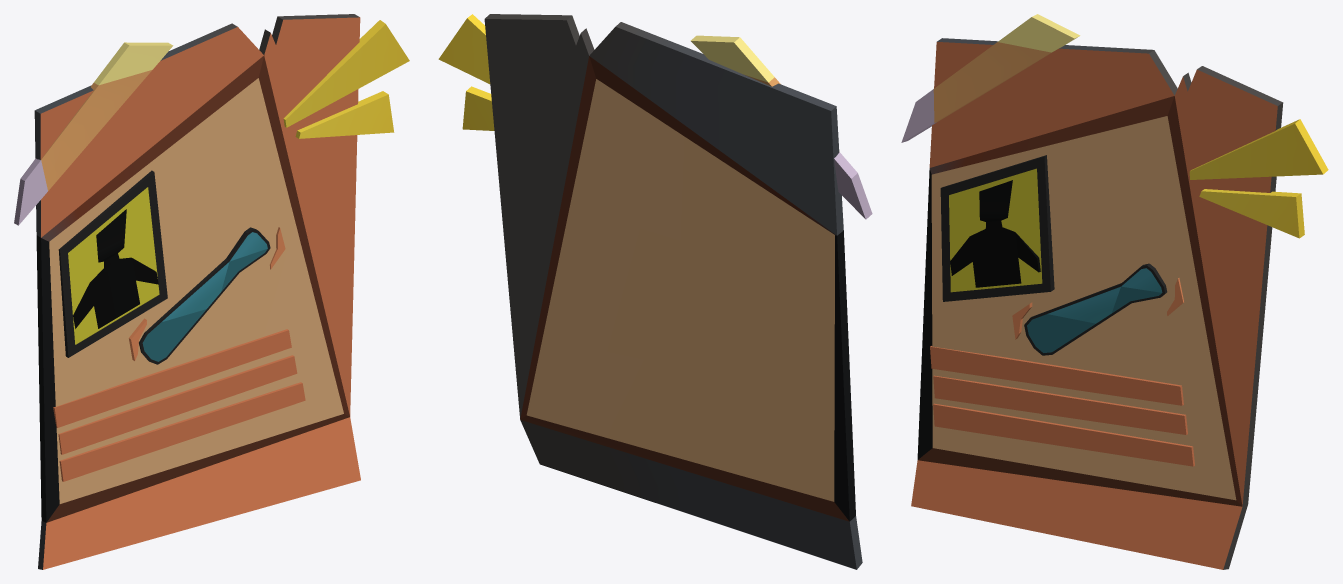
Rendered from animal_billboard001.glb.
3 renders of one model, left to right at view 1: azimuth 30°, elevation 25°; view 2: azimuth 150°, elevation 25°; view 3: azimuth 330°, elevation 25°, orthographic. The views are drawn at different scales.
Parts seen in each view (by area): view 1: Art_posters_01; view 2: Art_posters_01; view 3: Art_posters_01.
Part boxes in pixels (x1=…): Art_posters_01: x1=14, y1=14, x2=409, y2=569; Art_posters_01: x1=438, y1=14, x2=872, y2=569; Art_posters_01: x1=901, y1=14, x2=1328, y2=569.
Size of the model in its own units: 6.15 by 7.22 by 0.8647.
Materials: 1 (1 with a texture image).
